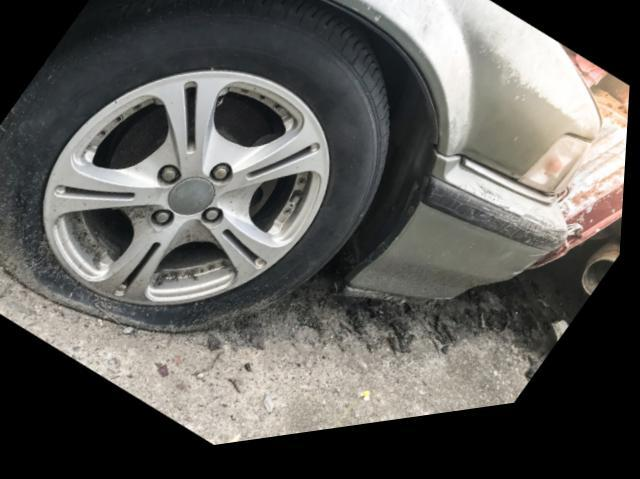tire flat: (0, 0, 394, 339)
